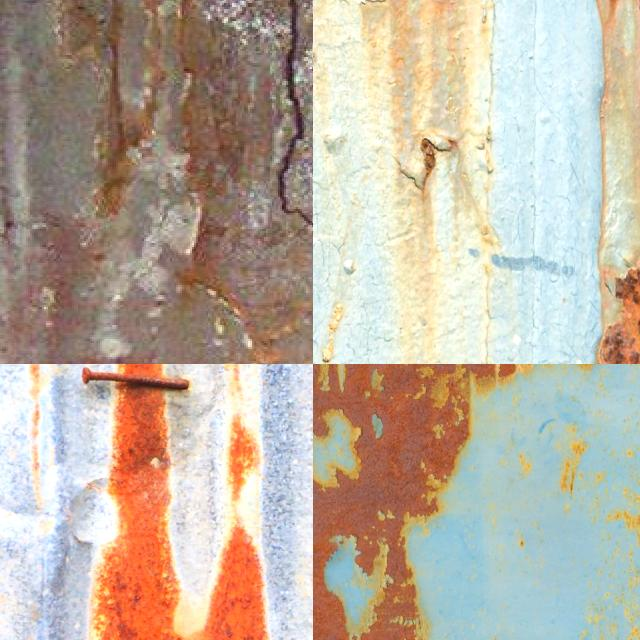Crack: (278, 0, 313, 222)
Uniform Corrosion: (313, 364, 514, 640), (90, 383, 179, 640), (194, 516, 267, 640), (200, 525, 266, 640), (227, 364, 262, 523), (29, 364, 43, 502), (230, 419, 248, 499)
